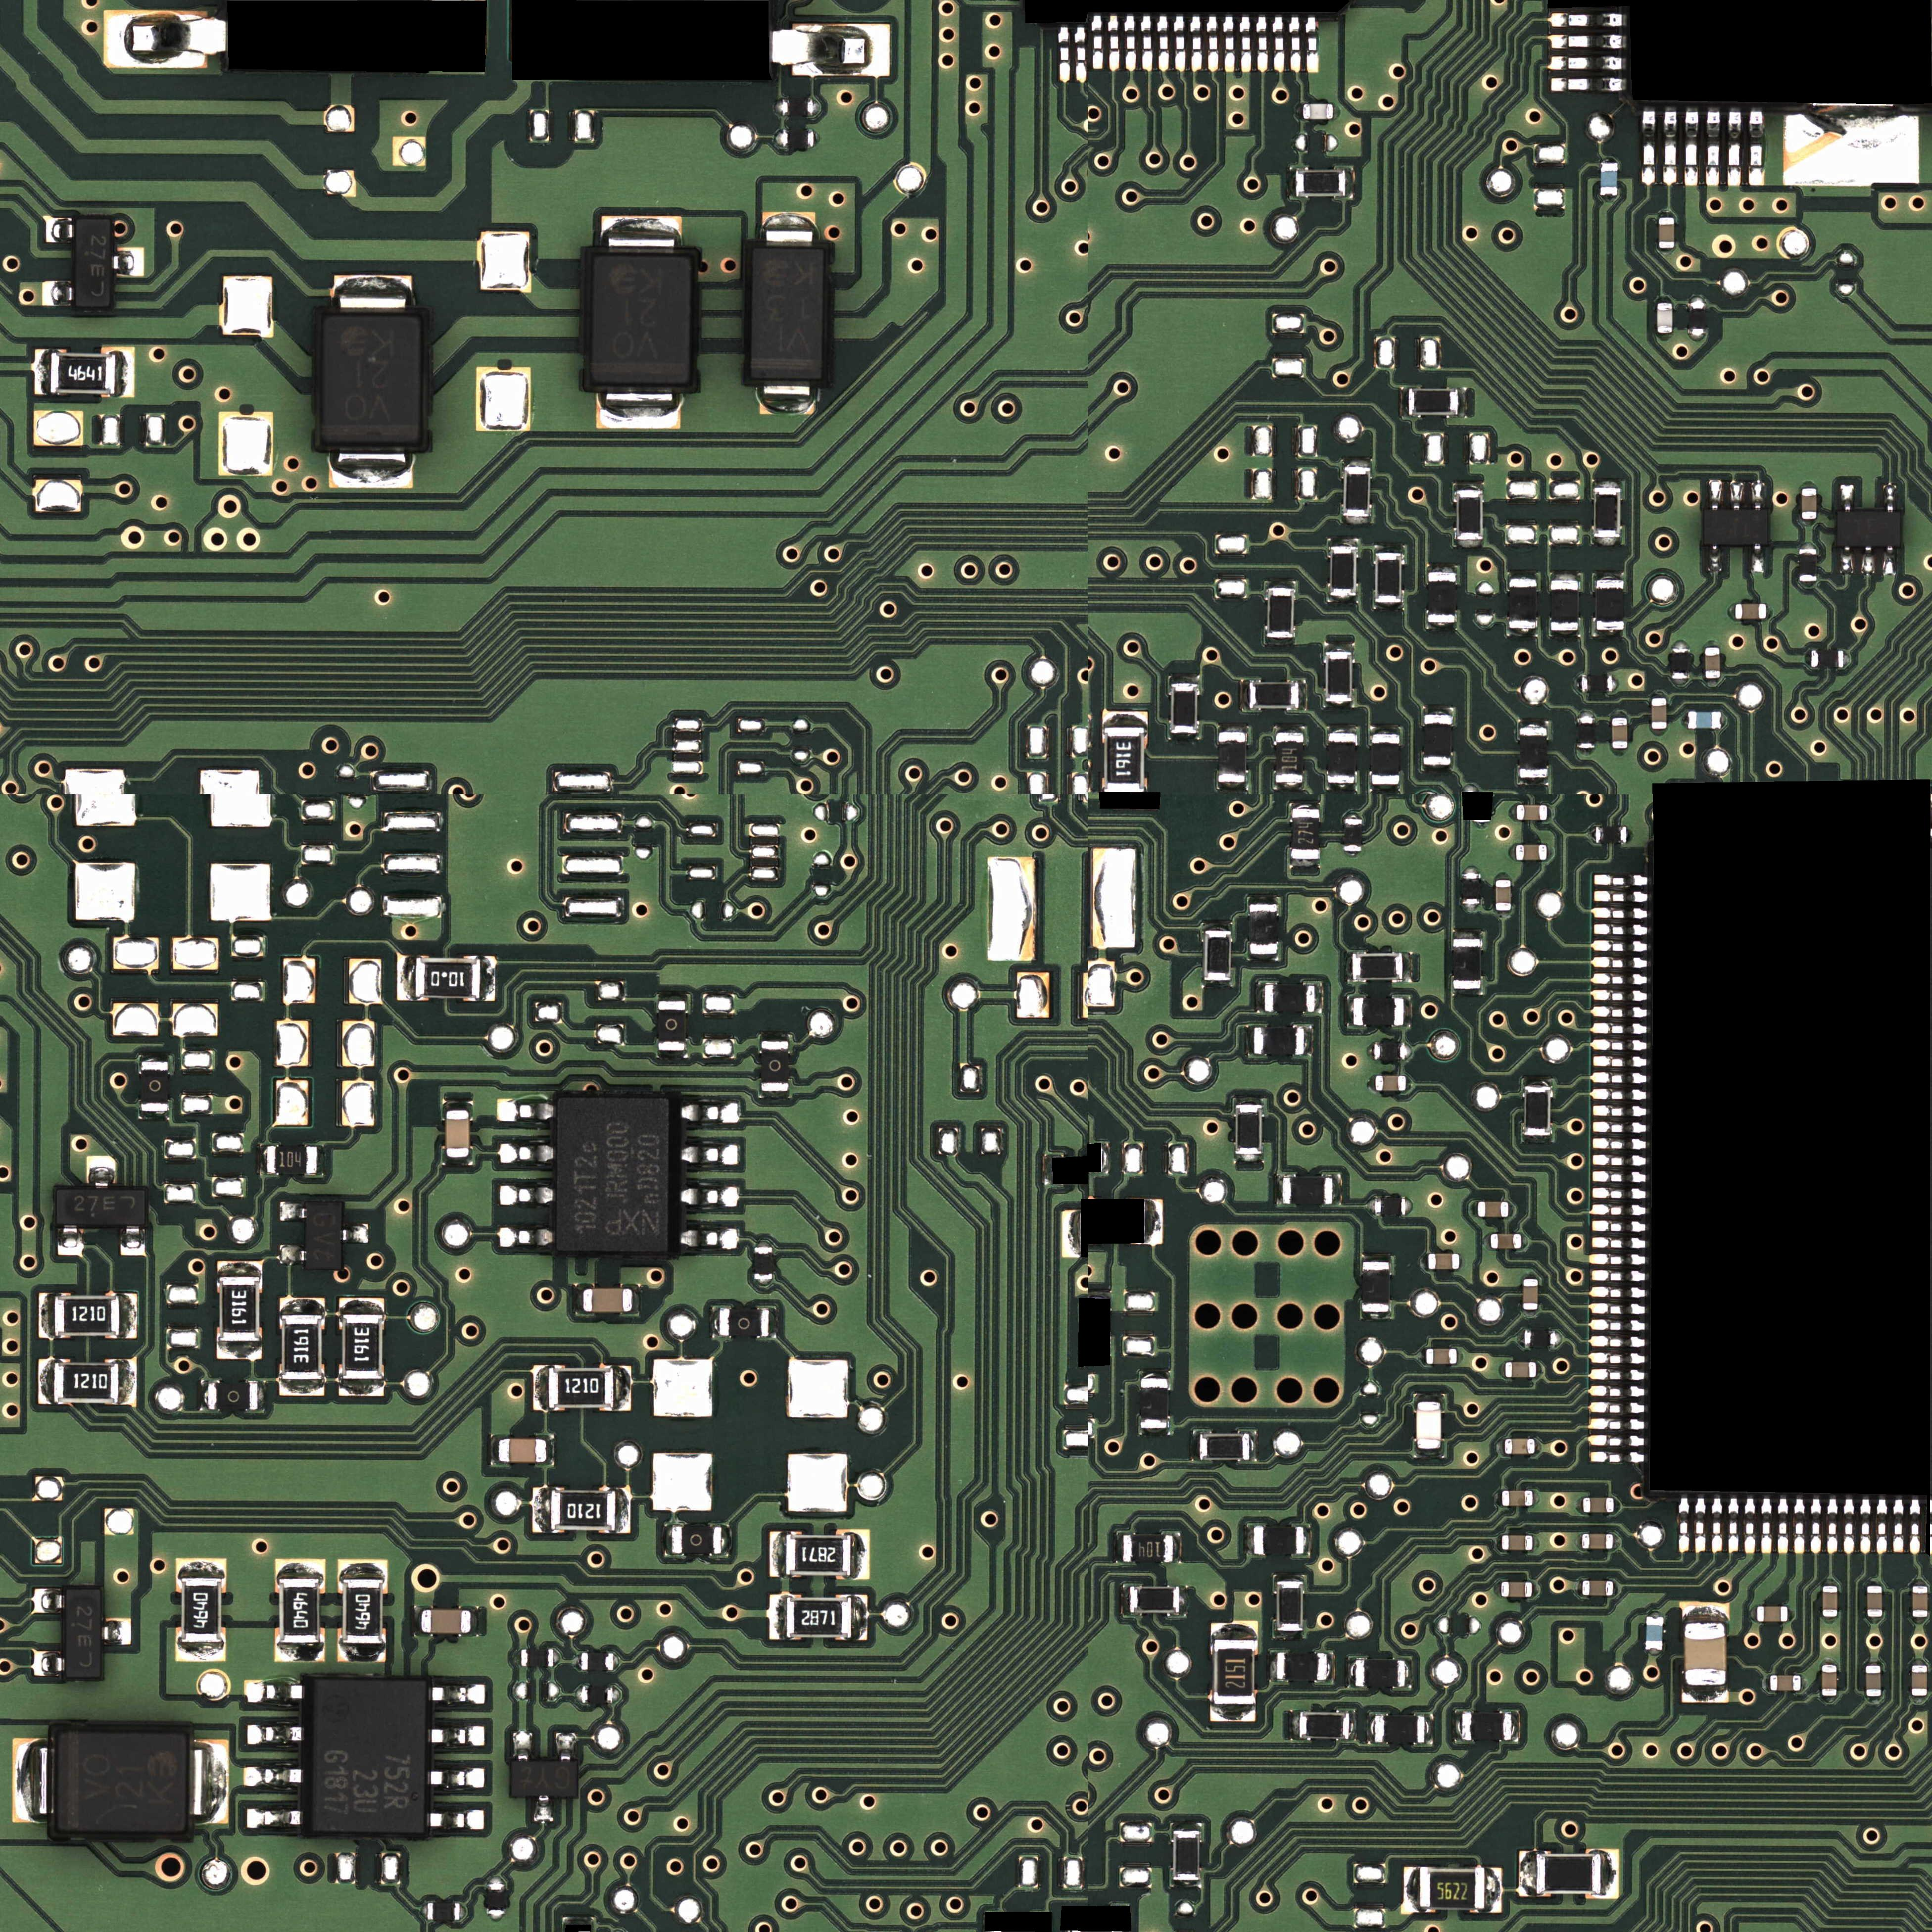Package: (557, 1096, 668, 1252), (314, 1681, 425, 1833), (59, 1733, 187, 1832), (591, 255, 690, 384), (322, 316, 420, 444), (752, 249, 821, 379), (56, 1190, 145, 1225), (66, 1589, 101, 1677), (76, 218, 111, 307), (1420, 1868, 1484, 1910), (54, 1296, 120, 1337), (786, 1535, 850, 1576), (1214, 1640, 1256, 1704), (53, 1363, 119, 1403), (548, 1368, 613, 1408), (551, 1490, 616, 1531), (416, 958, 480, 999), (50, 353, 115, 394), (342, 1579, 383, 1643), (279, 1579, 320, 1643), (1104, 728, 1144, 792), (181, 1579, 222, 1642), (786, 1598, 851, 1638), (342, 1315, 383, 1379), (219, 1277, 259, 1341), (282, 1315, 322, 1379), (1685, 1623, 1726, 1685), (1537, 1854, 1600, 1893), (510, 1761, 578, 1796), (1836, 511, 1901, 547), (1703, 509, 1768, 545), (306, 1203, 341, 1267), (1254, 1526, 1304, 1555), (1249, 904, 1278, 954), (1218, 731, 1246, 783), (1371, 734, 1400, 784), (658, 1001, 686, 1051), (672, 1526, 722, 1554), (1550, 580, 1579, 630), (1265, 984, 1315, 1013), (1461, 1712, 1511, 1740), (267, 1146, 317, 1174), (1353, 998, 1404, 1025), (1428, 573, 1456, 622), (208, 1382, 258, 1410), (1424, 715, 1451, 765), (1596, 580, 1624, 630), (1254, 1027, 1304, 1055), (1277, 1653, 1327, 1681), (1283, 1176, 1333, 1204), (1375, 1715, 1425, 1743), (720, 1308, 769, 1336), (1520, 727, 1547, 778), (1328, 733, 1355, 783), (1355, 1659, 1405, 1687), (761, 1041, 788, 1091), (1123, 1535, 1173, 1562), (1453, 939, 1481, 988), (1509, 579, 1537, 628), (1276, 733, 1303, 782), (1362, 1262, 1389, 1312), (141, 1062, 168, 1111), (1130, 1587, 1179, 1613), (1344, 467, 1370, 516), (1353, 954, 1402, 980), (1326, 652, 1352, 702), (1268, 588, 1294, 637), (1296, 171, 1345, 196), (1457, 490, 1483, 539), (1250, 682, 1299, 708), (1171, 683, 1197, 733), (1594, 487, 1620, 537), (1205, 931, 1230, 980), (1331, 547, 1356, 596), (1376, 553, 1401, 602), (1200, 1434, 1249, 1459), (1236, 1105, 1261, 1154), (1174, 1831, 1199, 1880), (1300, 1713, 1349, 1738), (1408, 389, 1458, 414), (1277, 1582, 1302, 1631), (1525, 1087, 1550, 1135), (583, 1288, 632, 1312), (421, 1609, 471, 1633), (1417, 1402, 1441, 1449), (499, 1439, 546, 1462), (446, 1111, 470, 1158), (754, 1247, 773, 1280), (427, 1902, 460, 1921), (1344, 819, 1362, 851), (581, 1652, 614, 1670), (487, 1884, 505, 1915), (521, 1649, 553, 1667), (1811, 650, 1843, 668), (1671, 648, 1690, 679), (1374, 1042, 1405, 1060), (1688, 711, 1721, 728), (1799, 549, 1817, 581), (1600, 164, 1618, 194), (782, 130, 814, 147), (1646, 1617, 1663, 1649), (782, 99, 813, 116), (1462, 873, 1480, 904), (1375, 1198, 1405, 1215), (582, 1687, 613, 1703), (1596, 826, 1627, 843), (1582, 676, 1612, 692), (1524, 1330, 1555, 1346), (1690, 303, 1705, 334), (1578, 718, 1594, 748), (1428, 1254, 1459, 1269), (1757, 1606, 1787, 1622), (1426, 1349, 1457, 1364), (1516, 844, 1546, 860), (1502, 1491, 1533, 1506), (1651, 698, 1667, 729), (1736, 604, 1766, 619), (1478, 1202, 1508, 1217), (1582, 1581, 1613, 1596), (1582, 1534, 1613, 1549), (1376, 1075, 1405, 1091), (1505, 1439, 1535, 1454), (1612, 718, 1627, 748), (1659, 218, 1674, 248), (1801, 488, 1817, 519), (1705, 648, 1720, 678), (1496, 880, 1511, 911), (1770, 1675, 1800, 1690), (1501, 1582, 1532, 1597), (1523, 1279, 1538, 1309), (1866, 1666, 1881, 1696), (1912, 1587, 1928, 1617), (1912, 1665, 1927, 1695), (1505, 1362, 1536, 1377), (1822, 1665, 1837, 1695), (1517, 805, 1547, 820), (1491, 1234, 1521, 1249), (1867, 1586, 1882, 1617), (1502, 1535, 1532, 1550), (1823, 1586, 1837, 1616), (1583, 1497, 1613, 1512), (1657, 303, 1673, 333), (1304, 104, 1333, 119)
Solder: (1783, 114, 1920, 186), (102, 6, 224, 73), (772, 17, 892, 81), (12, 1738, 58, 1823), (596, 385, 680, 429), (329, 444, 413, 488), (187, 1739, 229, 1824), (334, 275, 412, 316), (601, 215, 682, 254), (759, 379, 816, 415), (762, 212, 817, 247), (681, 1183, 739, 1208), (680, 1225, 738, 1250), (244, 1680, 303, 1703), (681, 1142, 738, 1166), (497, 1098, 553, 1122), (243, 1764, 303, 1787), (681, 1101, 739, 1124), (428, 1766, 485, 1789), (498, 1224, 553, 1248), (246, 1806, 303, 1829), (1547, 77, 1628, 93), (1545, 55, 1626, 71), (1546, 35, 1627, 51), (1544, 13, 1625, 29), (247, 1722, 304, 1744), (499, 1141, 554, 1164), (426, 1809, 484, 1831), (428, 1726, 484, 1747), (500, 1183, 554, 1206), (429, 1684, 485, 1705), (1642, 109, 1656, 188), (1749, 110, 1763, 189), (1728, 110, 1742, 189), (1685, 110, 1698, 189), (1663, 109, 1677, 188), (1706, 110, 1720, 189), (275, 1558, 326, 1578), (175, 1642, 226, 1661), (175, 1558, 227, 1578), (86, 1156, 116, 1189), (338, 1559, 388, 1579), (1681, 1602, 1730, 1622), (115, 346, 135, 398), (274, 1642, 325, 1662), (851, 1529, 870, 1580), (111, 247, 144, 277), (1056, 24, 1072, 83), (1601, 1849, 1619, 1899), (337, 1643, 386, 1662), (1681, 1685, 1729, 1703), (42, 280, 75, 306), (397, 955, 416, 1001), (1146, 1198, 1164, 1244), (119, 1358, 137, 1406), (33, 1650, 65, 1677), (1073, 24, 1087, 85), (614, 1365, 631, 1411), (1403, 1866, 1420, 1914), (216, 1342, 262, 1359), (1090, 13, 1104, 70), (1157, 14, 1171, 71), (1271, 15, 1286, 72), (33, 1588, 65, 1613), (1123, 15, 1138, 71), (1207, 16, 1221, 72), (1190, 16, 1205, 72), (1173, 14, 1187, 71), (1305, 17, 1319, 73), (1238, 16, 1253, 72), (1222, 16, 1236, 72), (120, 1293, 137, 1339), (532, 1487, 550, 1533), (769, 1531, 786, 1578), (1519, 1851, 1536, 1897), (101, 1618, 131, 1644), (280, 1297, 325, 1314), (1140, 14, 1154, 71), (1289, 17, 1303, 74), (1107, 13, 1120, 70), (1255, 16, 1269, 72), (1063, 1211, 1081, 1256), (34, 349, 51, 395), (338, 1379, 385, 1396), (1210, 1704, 1256, 1721), (1485, 1867, 1502, 1913), (1588, 1401, 1645, 1414), (1588, 1335, 1645, 1348), (1588, 1302, 1645, 1315), (1590, 1071, 1647, 1085), (1591, 1006, 1648, 1019), (46, 217, 76, 242), (769, 1594, 785, 1640), (1588, 1434, 1645, 1447), (1588, 1368, 1645, 1381), (1590, 1286, 1647, 1299), (1590, 1253, 1647, 1265), (1589, 1237, 1646, 1250), (1590, 1203, 1647, 1216), (1589, 1187, 1646, 1200), (1589, 1154, 1646, 1166), (1590, 1139, 1647, 1152), (1590, 1122, 1647, 1135), (1590, 1089, 1647, 1102), (1590, 1056, 1647, 1068), (1590, 1022, 1647, 1035), (1591, 989, 1648, 1002), (1591, 972, 1648, 985), (1591, 939, 1648, 952), (1591, 873, 1648, 886), (1591, 907, 1648, 919), (1591, 923, 1648, 936), (58, 1225, 83, 1255), (39, 1293, 54, 1339), (852, 1594, 867, 1641), (279, 1380, 325, 1396), (1591, 1269, 1646, 1282), (1591, 1220, 1646, 1233), (1590, 1170, 1646, 1183), (1592, 956, 1647, 968), (480, 956, 496, 1001), (1589, 1451, 1644, 1464), (1589, 1385, 1644, 1398), (1591, 1106, 1646, 1118), (1591, 1039, 1646, 1052), (1592, 890, 1647, 903), (120, 1226, 145, 1255), (338, 1298, 385, 1313), (38, 1358, 53, 1404), (533, 1365, 549, 1411), (616, 1488, 631, 1534), (1211, 1623, 1257, 1639), (217, 1261, 263, 1276), (1103, 711, 1147, 726), (1589, 1418, 1645, 1431), (1589, 1352, 1645, 1364), (1589, 1319, 1645, 1331), (1877, 1498, 1888, 1554), (1827, 1497, 1838, 1553), (1760, 1497, 1772, 1553), (1711, 1497, 1723, 1552), (1892, 1498, 1904, 1554), (1860, 1498, 1871, 1554), (1843, 1498, 1855, 1553), (1811, 1498, 1822, 1553), (1744, 1497, 1756, 1553), (1728, 1497, 1739, 1552), (1694, 1497, 1706, 1552), (1679, 1497, 1690, 1552), (1910, 1499, 1921, 1554), (1794, 1497, 1805, 1553), (1778, 1497, 1788, 1553), (279, 1244, 306, 1264), (556, 1733, 576, 1760), (341, 1222, 368, 1243), (279, 1202, 306, 1222), (513, 1732, 532, 1760), (534, 1796, 554, 1822), (1708, 479, 1723, 510), (1750, 544, 1765, 573), (1861, 546, 1876, 574), (1730, 481, 1744, 509), (1750, 481, 1764, 510), (1882, 546, 1896, 575), (1883, 483, 1897, 512), (1839, 546, 1854, 573), (1707, 545, 1722, 571), (1840, 483, 1854, 511), (1271, 1631, 1307, 1641), (1245, 1522, 1254, 1556), (138, 1111, 170, 1121), (1399, 386, 1408, 420), (1272, 1572, 1306, 1581), (563, 1917, 598, 1926), (1290, 1709, 1299, 1741), (1458, 386, 1467, 419), (1173, 1531, 1182, 1564), (1422, 705, 1454, 715), (1240, 679, 1250, 711), (1453, 482, 1484, 491), (664, 1523, 672, 1557), (1249, 1429, 1258, 1462), (1179, 1585, 1188, 1617), (1121, 1582, 1130, 1615), (1517, 777, 1549, 786), (1361, 1253, 1392, 1262), (1591, 537, 1622, 546), (471, 1606, 481, 1635), (1101, 1142, 1111, 1172), (1345, 169, 1355, 196), (490, 1434, 499, 1466), (546, 1435, 555, 1467), (1402, 952, 1411, 983), (1452, 929, 1484, 938), (1346, 1656, 1355, 1688), (443, 1100, 473, 1110), (1342, 458, 1372, 467), (1414, 1449, 1444, 1458), (721, 1524, 729, 1557), (442, 1157, 473, 1166), (1333, 1173, 1341, 1206), (1370, 725, 1401, 734), (1592, 479, 1623, 488), (1191, 1429, 1200, 1461), (1269, 1650, 1277, 1683), (1115, 1531, 1123, 1563), (1324, 642, 1354, 651), (1234, 1154, 1264, 1163), (1326, 724, 1358, 733), (1327, 1651, 1336, 1683), (1549, 572, 1582, 580), (1170, 1823, 1203, 1831), (1246, 1025, 1254, 1056), (1361, 1311, 1392, 1320), (1304, 1524, 1311, 1556), (1349, 1709, 1357, 1742), (1511, 1710, 1519, 1742), (414, 1605, 422, 1636), (1298, 679, 1306, 710), (1425, 1714, 1433, 1744), (658, 992, 686, 1001), (1257, 981, 1265, 1014), (760, 1032, 790, 1040), (1427, 564, 1457, 572), (1414, 1393, 1445, 1401), (258, 1380, 266, 1411), (1304, 1025, 1312, 1057), (1170, 1881, 1202, 1888), (1454, 1710, 1462, 1741), (1507, 628, 1539, 636), (1522, 1078, 1554, 1086), (1329, 538, 1358, 546), (1202, 980, 1232, 989), (200, 1380, 208, 1411), (1522, 1135, 1553, 1143), (1592, 572, 1625, 580), (759, 1091, 790, 1099), (1169, 675, 1200, 683), (1367, 1712, 1374, 1744), (658, 1050, 687, 1059), (1342, 516, 1371, 525), (1326, 783, 1356, 791), (1423, 765, 1453, 773), (1593, 630, 1625, 637), (1233, 1098, 1265, 1105), (1315, 982, 1322, 1014), (1451, 989, 1483, 996), (1404, 1657, 1412, 1689), (1043, 1155, 1051, 1185), (1247, 897, 1278, 904), (1202, 923, 1233, 930), (1369, 784, 1401, 792), (1274, 725, 1305, 732), (1518, 719, 1549, 726), (1374, 602, 1403, 610), (1218, 723, 1247, 731), (1265, 637, 1296, 645), (1426, 622, 1457, 629), (1403, 997, 1410, 1028), (260, 1143, 267, 1176), (1456, 539, 1483, 548), (1219, 783, 1246, 791), (1274, 782, 1304, 790), (1374, 545, 1404, 553), (575, 1284, 583, 1312), (1549, 630, 1581, 637), (1265, 580, 1295, 588), (1346, 951, 1353, 982), (1507, 572, 1539, 579), (1328, 595, 1357, 603), (712, 1306, 719, 1337), (1289, 169, 1297, 196), (1169, 733, 1198, 740), (769, 1307, 776, 1338), (1347, 996, 1353, 1026), (1247, 954, 1279, 961), (632, 1287, 640, 1312), (1277, 1175, 1283, 1205), (318, 1145, 324, 1177), (1324, 701, 1353, 707), (141, 1055, 169, 1061), (773, 130, 783, 146), (1672, 640, 1689, 648), (1577, 747, 1594, 755), (1517, 1329, 1525, 1346), (1508, 804, 1517, 820), (487, 1876, 505, 1884), (1344, 850, 1361, 858), (1799, 542, 1817, 549), (1462, 904, 1480, 912), (1681, 712, 1689, 728), (774, 99, 782, 115), (1704, 639, 1720, 648), (813, 99, 821, 115), (1420, 1254, 1428, 1269), (1495, 872, 1511, 880), (1704, 678, 1720, 686), (1483, 1233, 1491, 1249), (1522, 1309, 1538, 1317), (1911, 1695, 1927, 1703), (1867, 1617, 1883, 1625), (1333, 104, 1341, 119), (1690, 297, 1704, 306), (1672, 679, 1689, 687), (1799, 581, 1817, 588), (1690, 332, 1705, 340), (1801, 481, 1817, 488), (1508, 844, 1516, 860), (1496, 910, 1511, 918), (1611, 676, 1619, 691), (1497, 1439, 1505, 1454), (1536, 1362, 1544, 1377), (1800, 1675, 1808, 1690), (813, 130, 821, 145), (1843, 650, 1850, 667), (1766, 603, 1774, 620), (1459, 1253, 1466, 1269), (1865, 1657, 1882, 1665), (459, 1903, 466, 1920), (514, 1649, 521, 1666), (1368, 1198, 1375, 1215), (1804, 650, 1811, 667), (1295, 103, 1303, 118), (1418, 1349, 1426, 1363), (1546, 845, 1554, 860), (1612, 748, 1628, 756), (1728, 603, 1735, 619), (1508, 1202, 1516, 1217), (1787, 1606, 1795, 1621), (1749, 1606, 1757, 1621), (1867, 1579, 1883, 1586), (1822, 1695, 1837, 1703), (1575, 1497, 1583, 1512), (1911, 1658, 1927, 1665), (420, 1903, 427, 1920), (755, 1279, 772, 1286), (755, 1240, 773, 1247), (1368, 1075, 1375, 1090), (1612, 711, 1627, 718), (1651, 728, 1667, 736), (1721, 712, 1728, 727), (1521, 1233, 1529, 1249), (1555, 1331, 1562, 1347), (1494, 1581, 1501, 1596), (1614, 1497, 1622, 1513), (1822, 1578, 1837, 1586), (1912, 1617, 1928, 1624), (1866, 1696, 1882, 1703), (1822, 1617, 1837, 1624), (1912, 1579, 1927, 1586), (1463, 783, 1478, 791), (1345, 812, 1361, 819), (1405, 1198, 1412, 1214), (1574, 676, 1581, 692), (1471, 1201, 1478, 1217), (1523, 1271, 1538, 1278), (1535, 1439, 1542, 1454), (1498, 1362, 1505, 1377), (1613, 1534, 1621, 1549), (1575, 1580, 1582, 1595), (1533, 1491, 1540, 1505), (1613, 1581, 1620, 1595), (1822, 1658, 1836, 1665), (613, 1687, 620, 1703), (1801, 519, 1817, 526), (554, 1649, 560, 1666), (575, 1653, 581, 1670), (1546, 805, 1554, 820), (1575, 1534, 1582, 1548), (1532, 1582, 1539, 1596), (1495, 1535, 1502, 1549), (1533, 1536, 1540, 1550), (1659, 210, 1674, 217), (1651, 691, 1667, 698), (1763, 1675, 1770, 1690), (488, 1915, 504, 1921), (1495, 1491, 1502, 1505), (575, 1687, 581, 1702), (1579, 712, 1594, 719), (1457, 1349, 1464, 1363), (1627, 827, 1634, 842), (1646, 1649, 1662, 1655), (1405, 1076, 1412, 1091), (1657, 333, 1673, 339), (613, 1654, 619, 1670), (1648, 1611, 1663, 1617), (1659, 248, 1675, 253), (1657, 296, 1672, 302), (1473, 822, 1490, 827), (1600, 158, 1617, 163), (1600, 195, 1617, 200), (1591, 826, 1596, 842), (1453, 540, 1457, 547)
